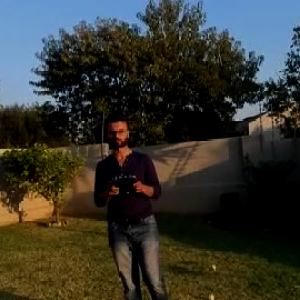follow: (89, 105, 175, 299)
